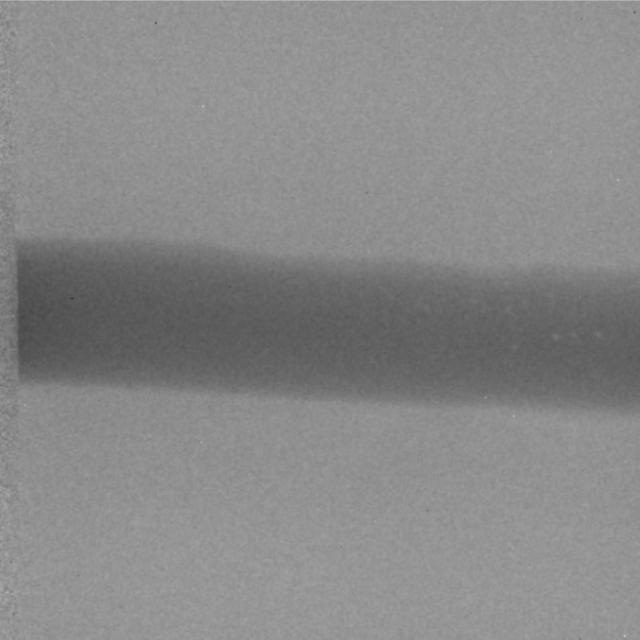air hole: (550, 329, 561, 341), (567, 329, 578, 341), (508, 341, 520, 351), (593, 327, 603, 338)
